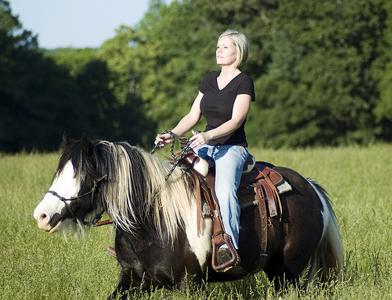person: (154, 28, 257, 273)
